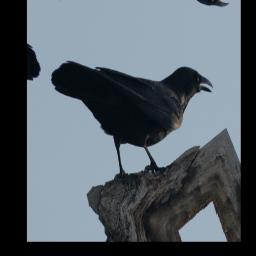Crow: (37, 15, 218, 210)
